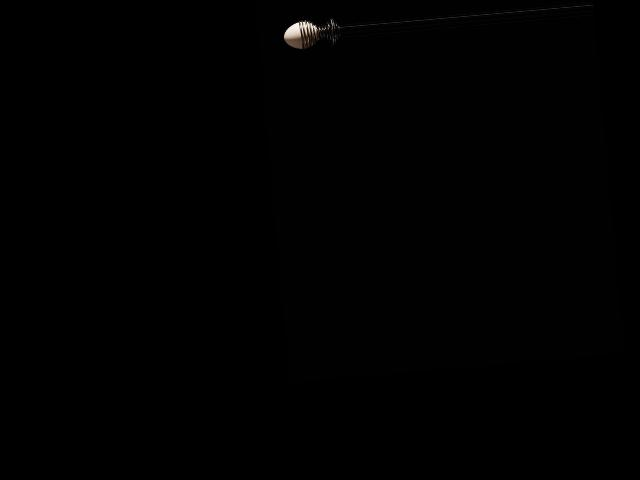egg: (282, 20, 319, 49)
